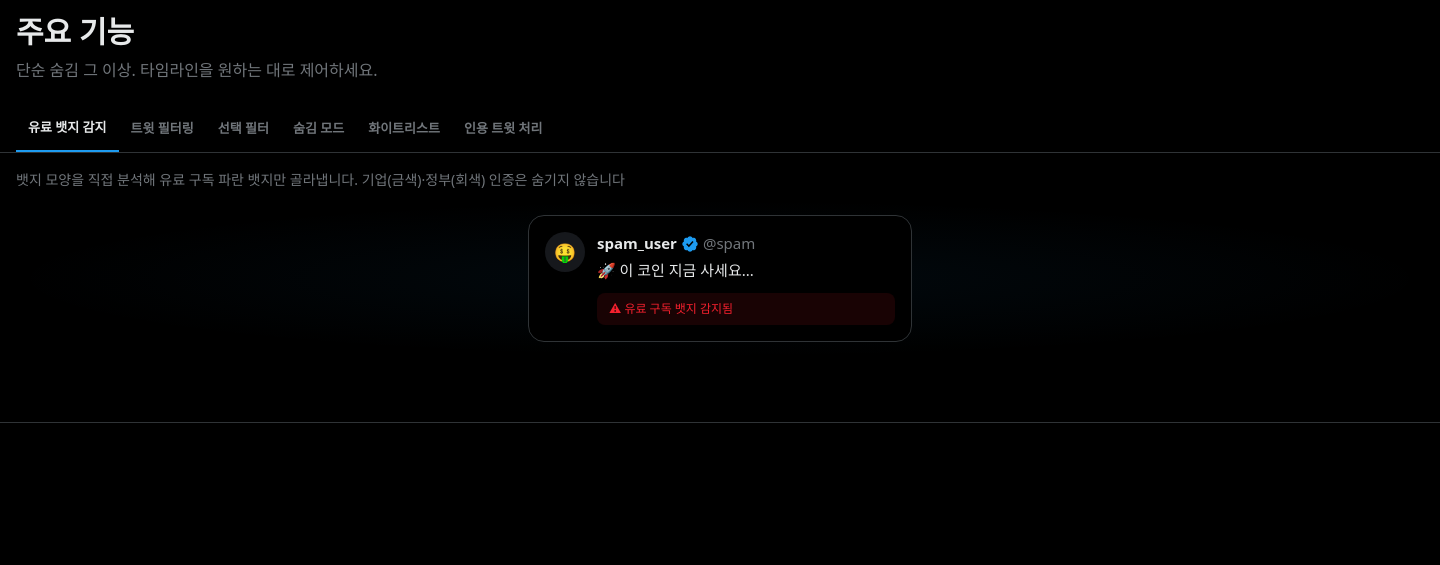
Test: Features › 선택 필터 탭은 키워드 필터·신규 고확산 계정·보호 키워드를 소개한다
The image size is (1440, 565).
What coordinates should you click on to do the following:
click the button "선택 필터"
I would click on:
 (243, 129)
Its box is [206, 106, 281, 152].
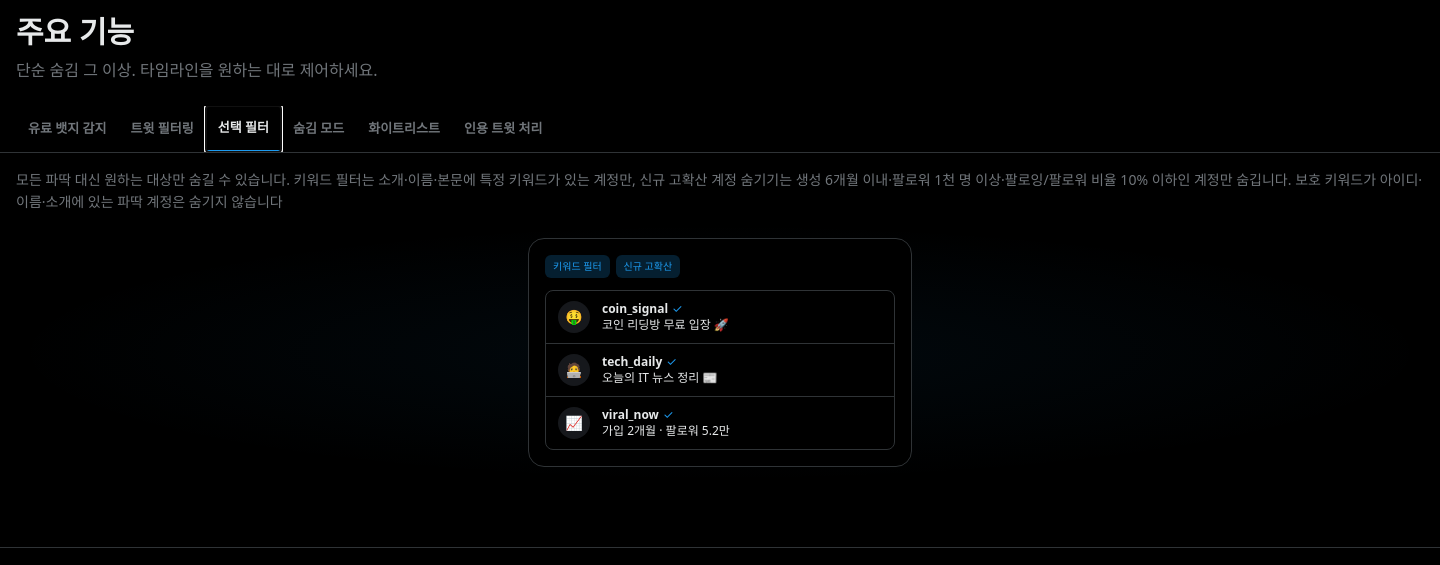
Now the text "보호 키워드가 아이디·이름·소개에 있는 파딱 계정은 숨기지 않습니다" is shown, box [16, 170, 1422, 211]
